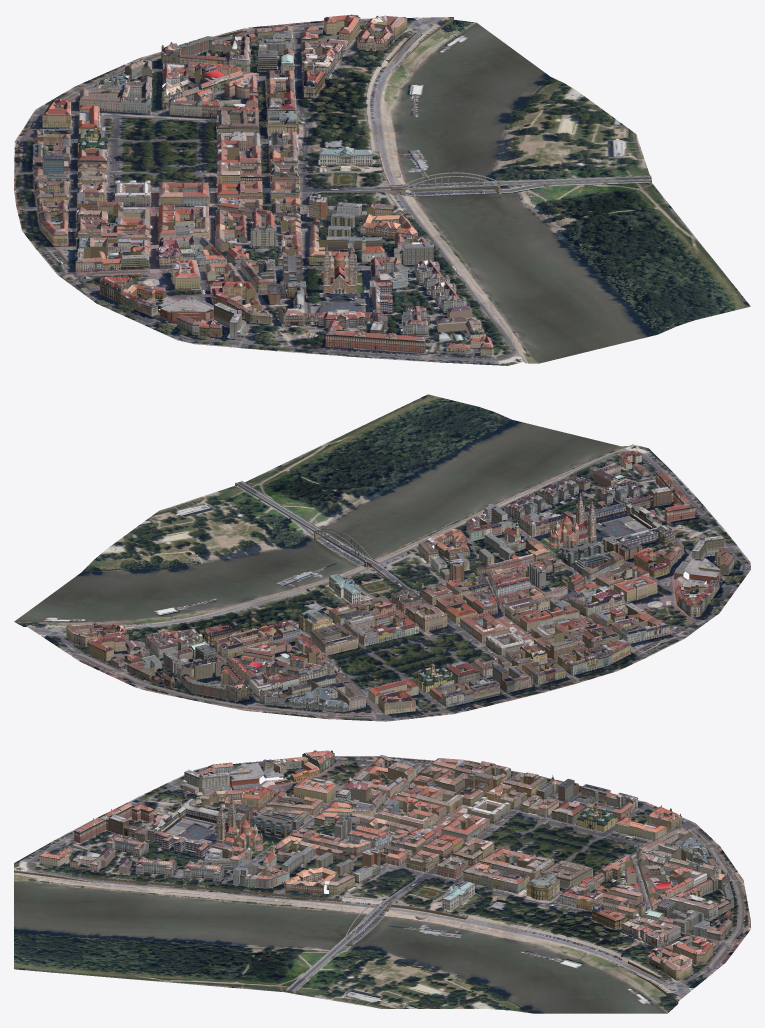
Rendered from City.glb.
3 views of the same model, one above another, from view 1: azimuth 30°, elevation 25°; view 2: azimuth 150°, elevation 25°; view 3: azimuth 270°, elevation 25° (orthographic). The views are drawn at different scales.
Visible parts, largest first — view 1: Material2 (×12), Material3 (×13); view 2: Material2 (×15), Material3 (×17); view 3: Material2 (×19), Material3 (×26).
Boxes of the visible parts, x1,y1,x2,y2 form: Material2 (×12): (14, 15, 750, 365); Material3 (×13): (33, 14, 635, 341); Material2 (×15): (159, 394, 750, 721); Material3 (×17): (14, 505, 729, 712); Material2 (×19): (14, 750, 743, 1008); Material3 (×26): (70, 753, 750, 1013).
Size of what is drawn, in the model's own units: 40160 by 3622 by 49508.
Materials: 99 (99 with a texture image).
